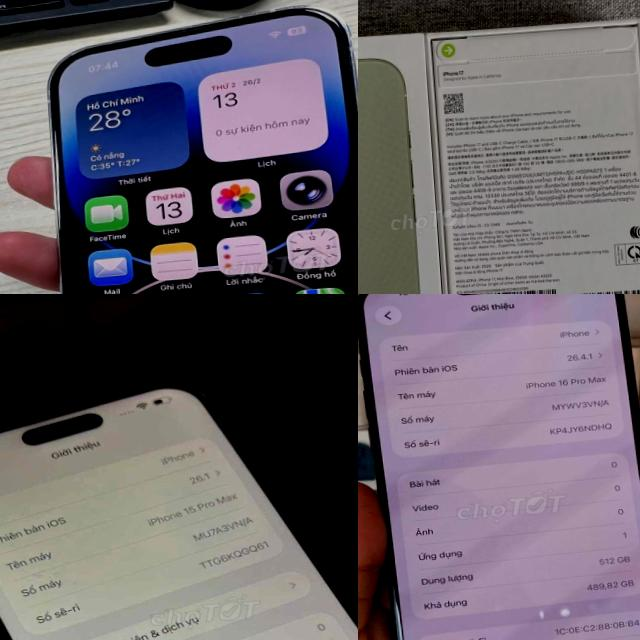gen_14: (28, 0, 358, 294)
gen_15: (0, 357, 358, 640)
gen_16: (358, 294, 640, 640)
gen_17: (358, 47, 434, 294)
